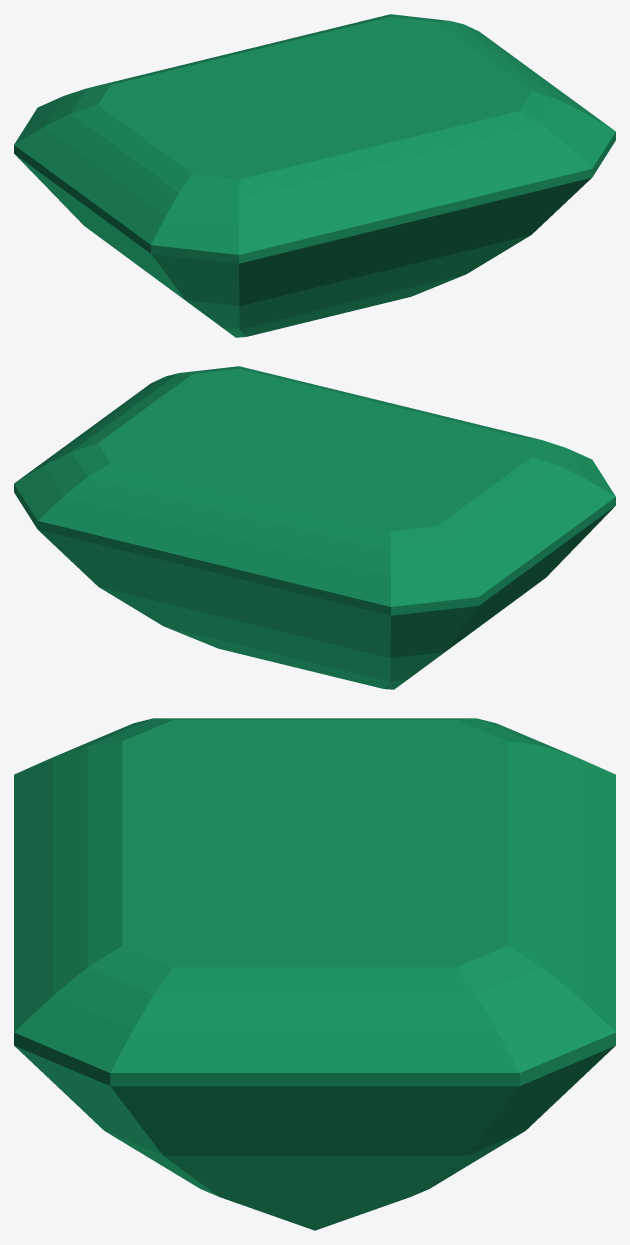
The model's file is jewelry.glb.
3 views of the same model, one above another, from view 1: azimuth 30°, elevation 25°; view 2: azimuth 150°, elevation 25°; view 3: azimuth 270°, elevation 25° (orthographic). The views are drawn at different scales.
Parts seen in each view (by area): view 1: Gemstone Emerald; view 2: Gemstone Emerald; view 3: Gemstone Emerald.
Part boxes in pixels (<box>): Gemstone Emerald: <box>14,14,615,337</box>; Gemstone Emerald: <box>14,366,615,689</box>; Gemstone Emerald: <box>14,718,615,1230</box>.
Bounding box in the file's own units: 2.2 × 0.9966 × 1.65.
